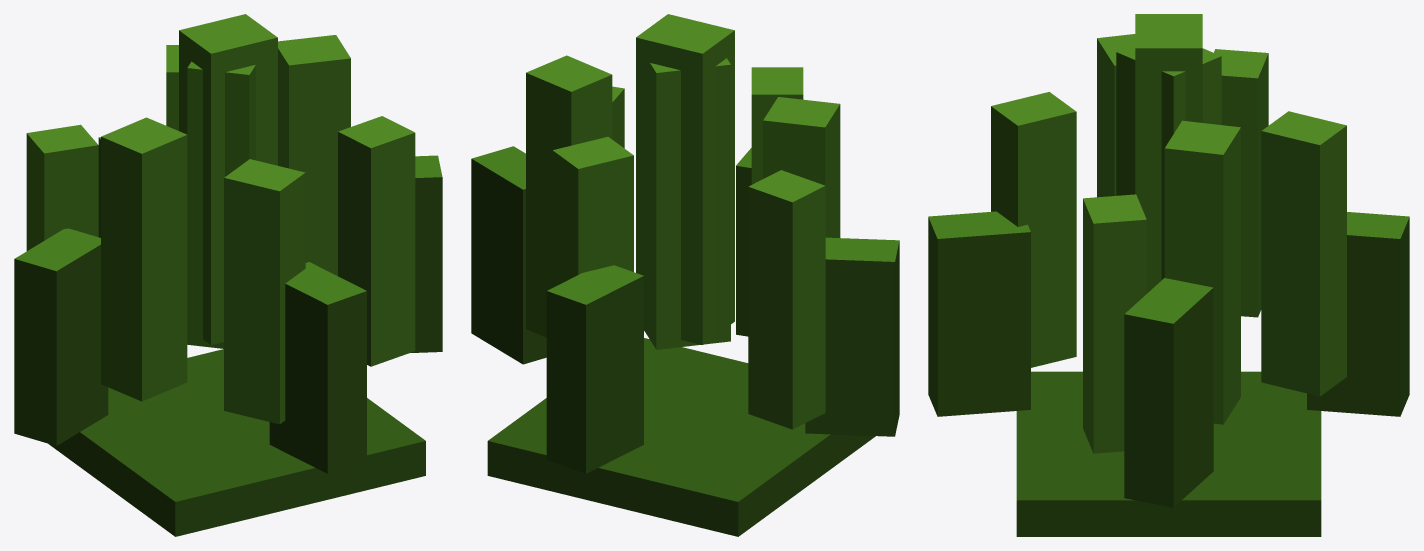
Rendered from grass_tuft_voxel.glb.
The picture shows the model from 3 angles, left to right: view 1: azimuth 30°, elevation 25°; view 2: azimuth 150°, elevation 25°; view 3: azimuth 270°, elevation 25°; orthographic projection. The views are drawn at different scales.
Parts seen in each view (by area): view 1: GrassTuft; view 2: GrassTuft; view 3: GrassTuft.
Part boxes in pixels (x1=…): GrassTuft: x1=14, y1=14, x2=442, y2=536; GrassTuft: x1=471, y1=14, x2=899, y2=536; GrassTuft: x1=928, y1=14, x2=1409, y2=536.
Size of the model in its own units: 0.7607 by 0.72 by 0.7118.
